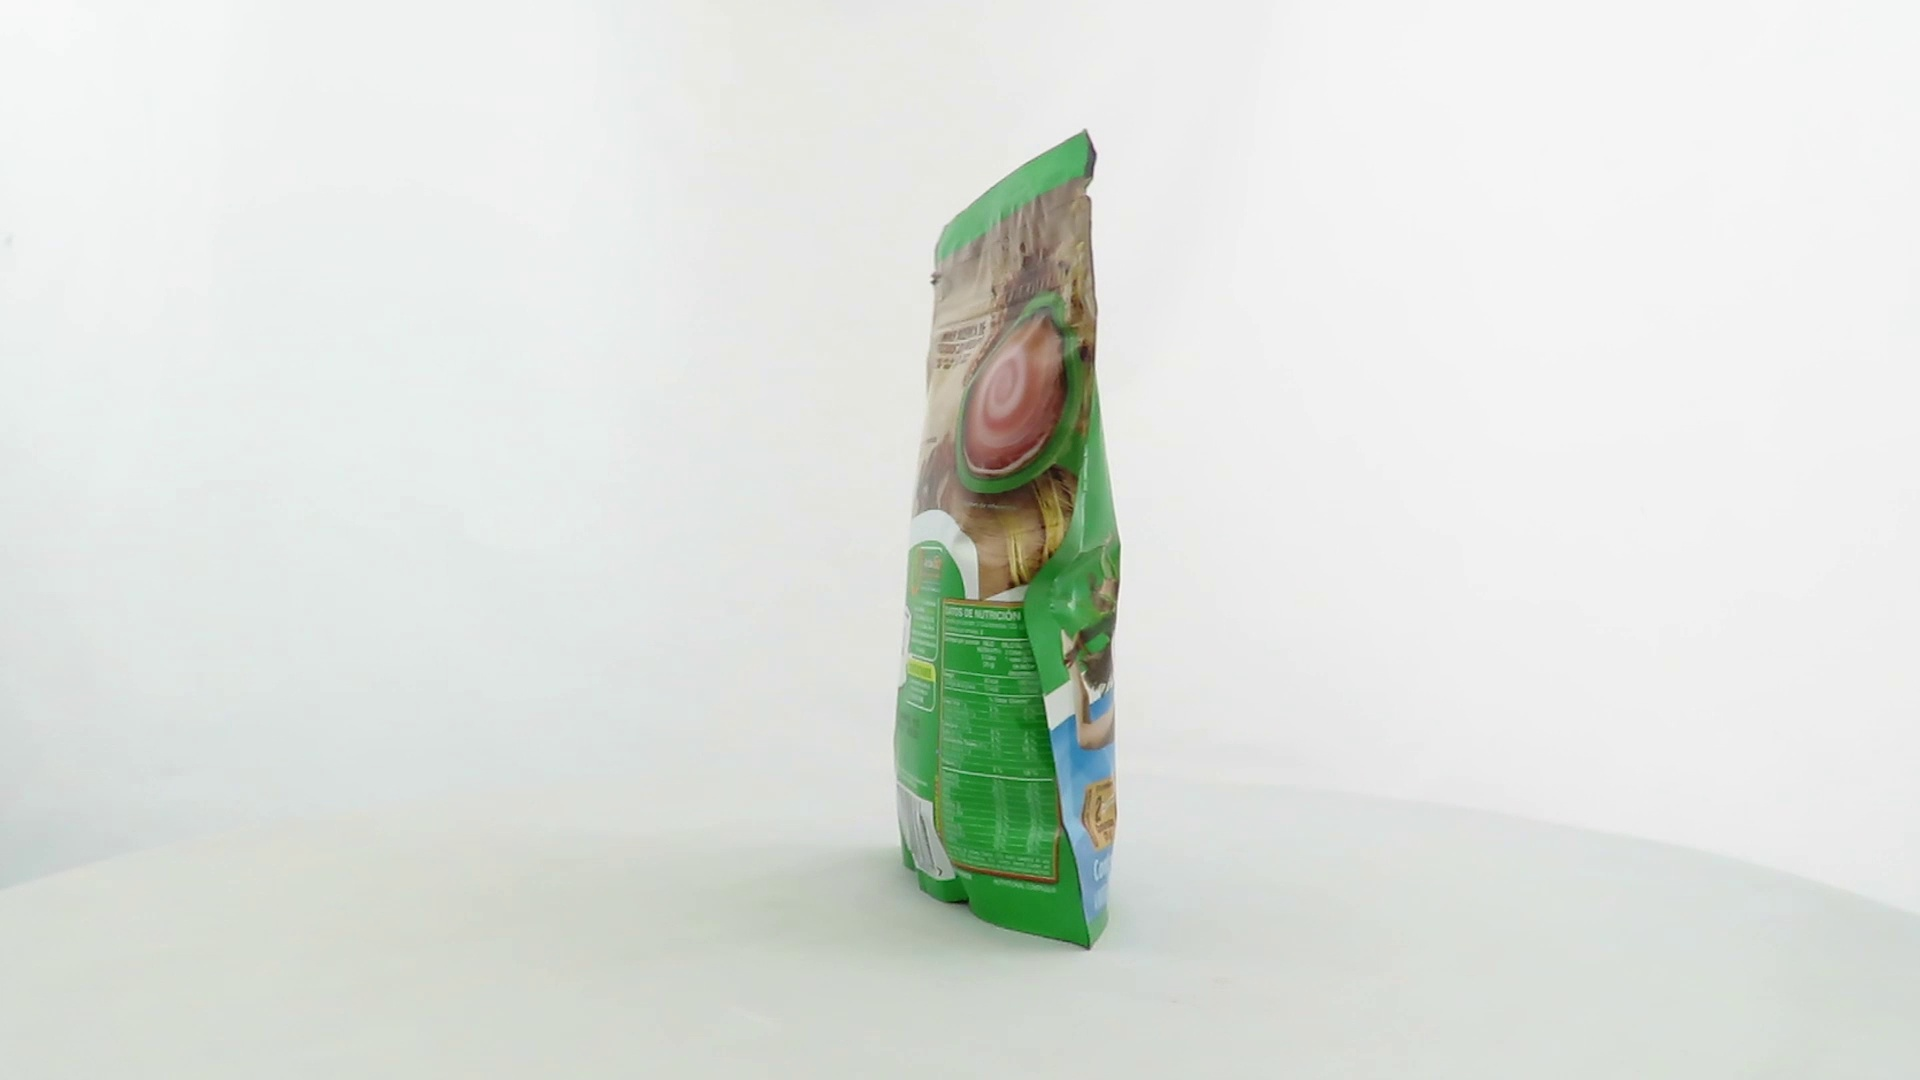COL0170205DYP20000: (887, 124, 1127, 957)
